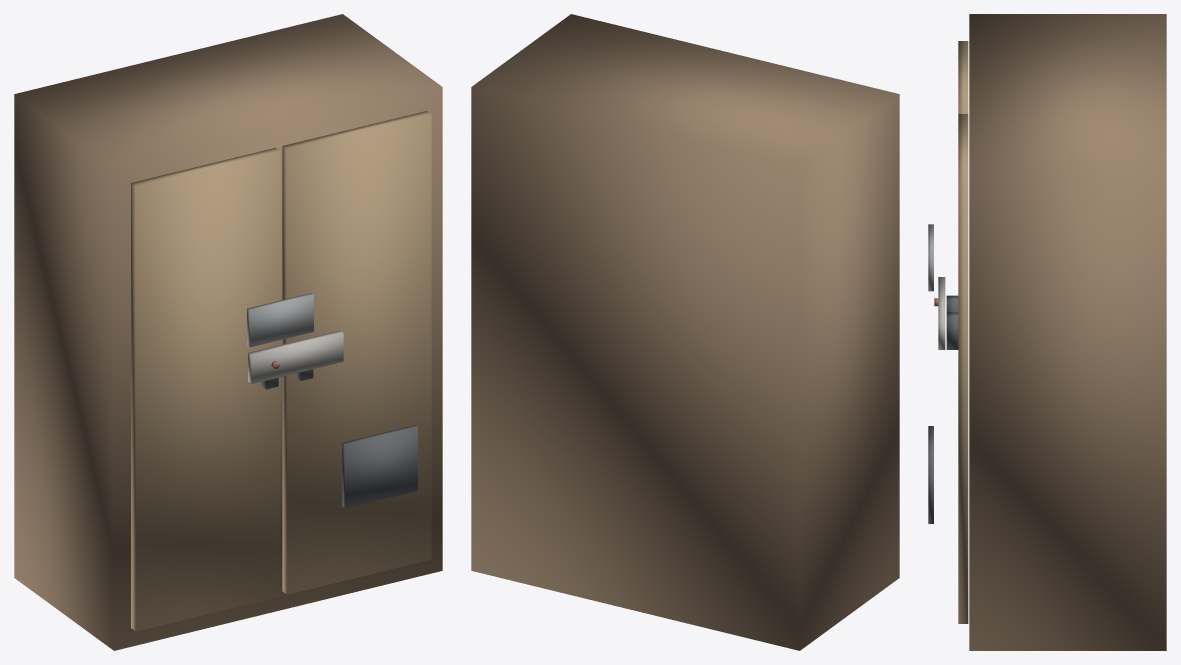
File: mechanical_control_cabinet__weathered.glb
3 views of the same model, side by side, from view 1: azimuth 30°, elevation 25°; view 2: azimuth 150°, elevation 25°; view 3: azimuth 270°, elevation 25° (orthographic).
Visible parts, largest first — view 1: world; view 2: world; view 3: world.
Part boxes in pixels (x1=…): world: x1=14, y1=14, x2=442, y2=650; world: x1=471, y1=14, x2=899, y2=650; world: x1=928, y1=14, x2=1166, y2=650.
Bounding box in the file's own units: 0.95 × 1.34 × 0.6041.
